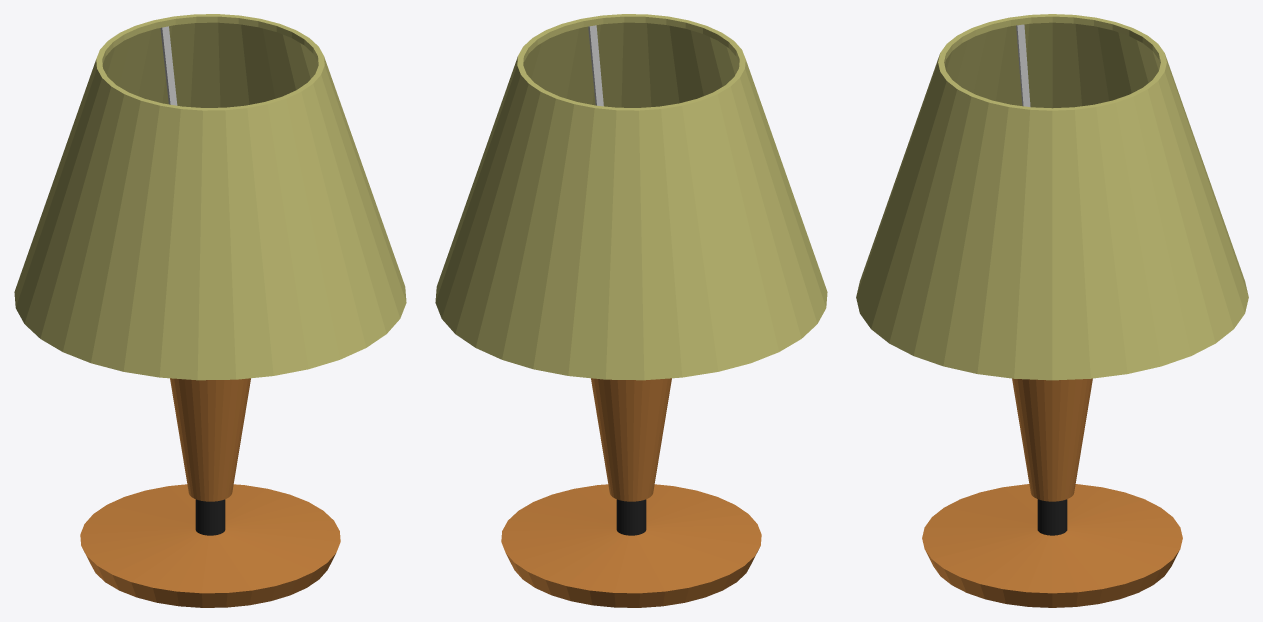
File: little_lamp2.obj
The picture shows the model from 3 angles, left to right: view 1: azimuth 30°, elevation 25°; view 2: azimuth 150°, elevation 25°; view 3: azimuth 270°, elevation 25°; orthographic projection.
Parts seen in each view (by area): view 1: lamp1_Circle.001; view 2: lamp1_Circle.001; view 3: lamp1_Circle.001.
Part boxes in pixels (x1,y1,x2,y2): lamp1_Circle.001: (14, 14, 406, 607); lamp1_Circle.001: (435, 14, 827, 607); lamp1_Circle.001: (856, 14, 1248, 607).
Bounding box in the file's own units: 0.3094 × 0.4297 × 0.3094.
